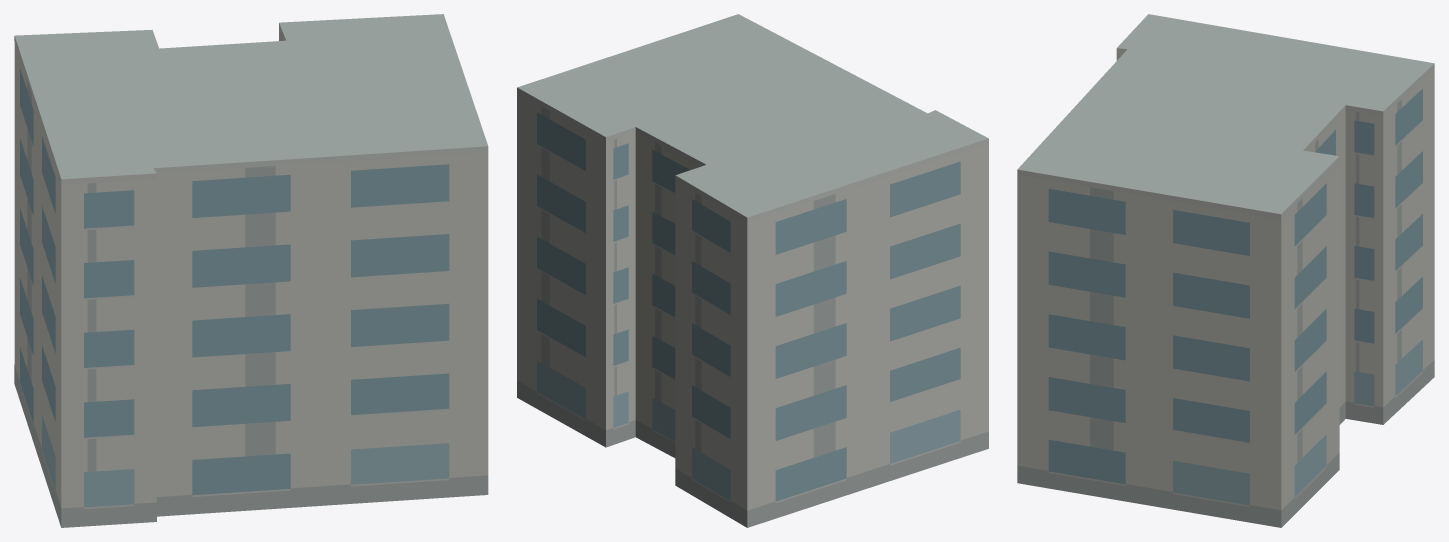
Rendered from survey-upis-32808068.glb.
3 views of the same model, side by side, from view 1: azimuth 30°, elevation 25°; view 2: azimuth 150°, elevation 25°; view 3: azimuth 270°, elevation 25° (orthographic). The views are drawn at different scales.
Parts seen in each view (by area): view 1: survey-upis-32808068.tmp; view 2: survey-upis-32808068.tmp; view 3: survey-upis-32808068.tmp.
Boxes of the visible parts, box(x1,y1,x2,y2) form: survey-upis-32808068.tmp: box(14, 14, 488, 527); survey-upis-32808068.tmp: box(517, 14, 988, 527); survey-upis-32808068.tmp: box(1017, 14, 1434, 527).
Size of the model in its own units: 20 by 14.6 by 17.62.
